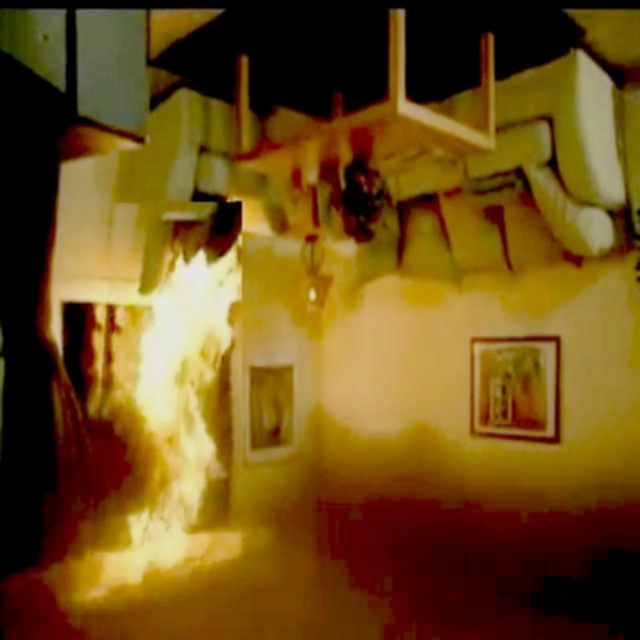fire: (60, 194, 287, 614)
